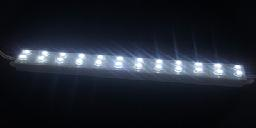LED: (12, 48, 250, 85)
